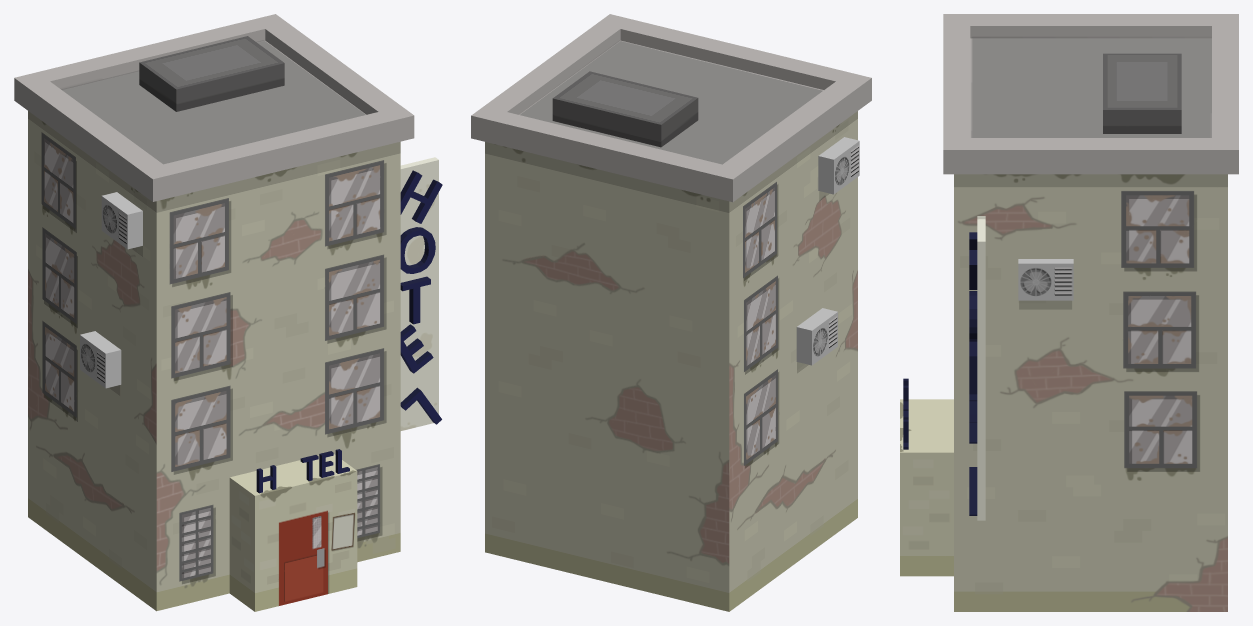
File: city_hotel.fbx
The picture shows the model from 3 angles, left to right: view 1: azimuth 30°, elevation 25°; view 2: azimuth 150°, elevation 25°; view 3: azimuth 270°, elevation 25°; orthographic projection. The views are drawn at different scales.
Visible parts, largest first — view 1: polySurface647; view 2: polySurface647; view 3: polySurface647.
Part boxes in pixels (x1,y1,x2,y2): polySurface647: [14, 14, 442, 611]; polySurface647: [471, 14, 871, 611]; polySurface647: [900, 14, 1238, 611].
Bounding box in the file's own units: 7.17 × 9.95 × 6.39.
